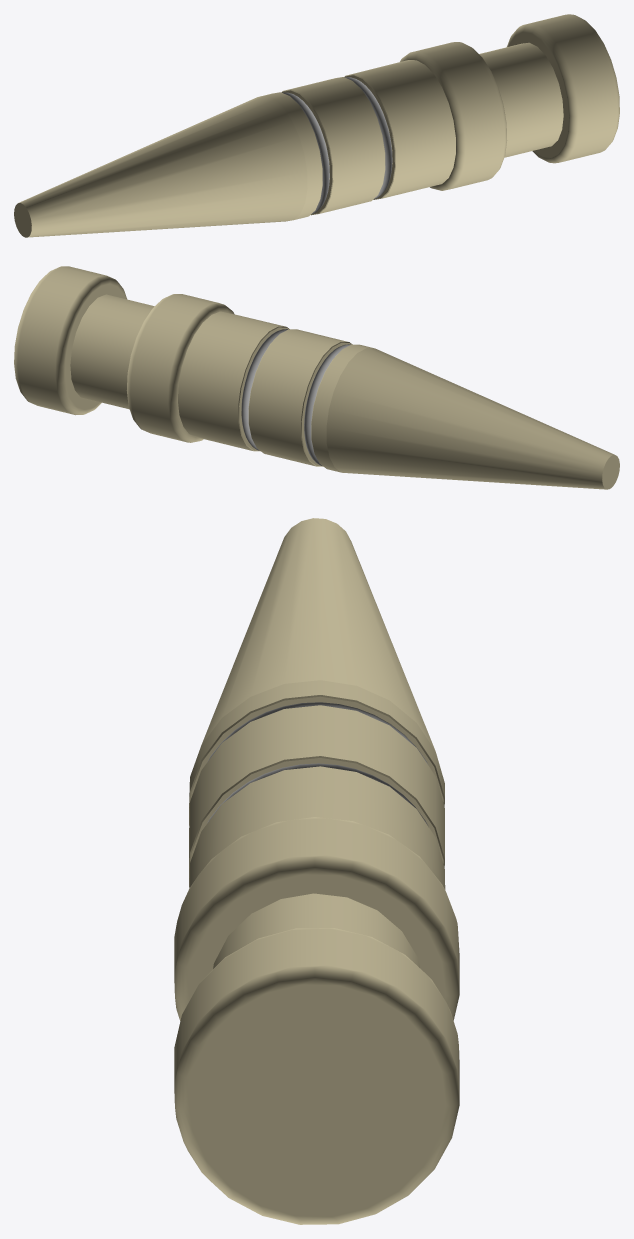
File: WS- Oring  .fbx
3 views of the same model, one above another, from view 1: azimuth 30°, elevation 25°; view 2: azimuth 150°, elevation 25°; view 3: azimuth 270°, elevation 25° (orthographic). The views are drawn at different scales.
Visible parts, largest first — view 1: ???3.518; view 2: ???3.518; view 3: ???3.518.
Part boxes in pixels (left/top/right/bottom): ???3.518: left=14, top=14, right=619, bottom=237; ???3.518: left=14, top=266, right=619, bottom=489; ???3.518: left=174, top=518, right=459, bottom=1224.
Bounding box in the file's own units: 0.1011 × 0.0222 × 0.0222.
